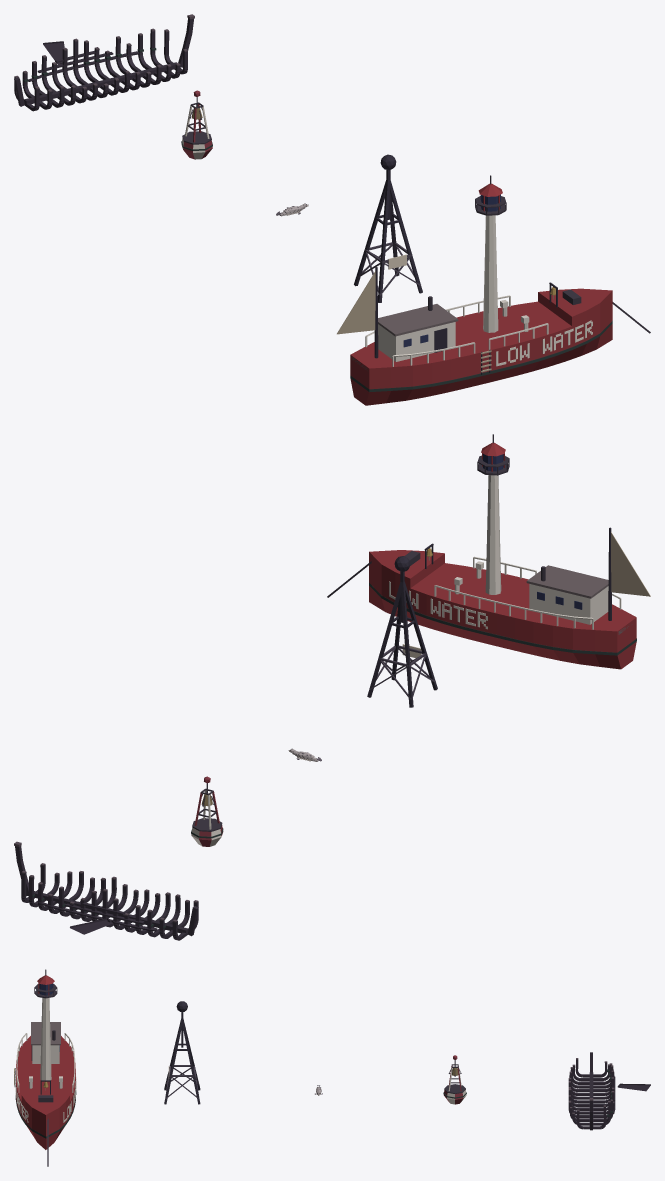
File: commonplace.glb
3 renders of one model, top to bottom at view 1: azimuth 30°, elevation 25°; view 2: azimuth 150°, elevation 25°; view 3: azimuth 270°, elevation 25°, orthographic. The views are drawn at different scales.
Parts seen in each view (by area): view 1: lightship.001, wreck_wood, baak.001, buoy_float, lightship_name; view 2: lightship.001, wreck_wood, baak.001, buoy_float; view 3: lightship.001, wreck_wood, baak.001, buoy_float.
Part boxes in pixels (bbox=[...]): lightship.001: bbox=[337, 175, 650, 405]; wreck_wood: bbox=[14, 14, 194, 111]; baak.001: bbox=[354, 170, 422, 302]; buoy_float: bbox=[181, 90, 212, 159]; lightship_name: bbox=[496, 320, 592, 366]; lightship.001: bbox=[327, 434, 650, 669]; wreck_wood: bbox=[14, 841, 198, 940]; baak.001: bbox=[367, 571, 437, 707]; buoy_float: bbox=[191, 776, 223, 846]; lightship.001: bbox=[14, 969, 76, 1166]; wreck_wood: bbox=[568, 1052, 615, 1130]; baak.001: bbox=[164, 1012, 200, 1104]; buoy_float: bbox=[443, 1055, 466, 1104].
Bounding box in the file's own units: 19.03 × 11.41 × 46.69.
